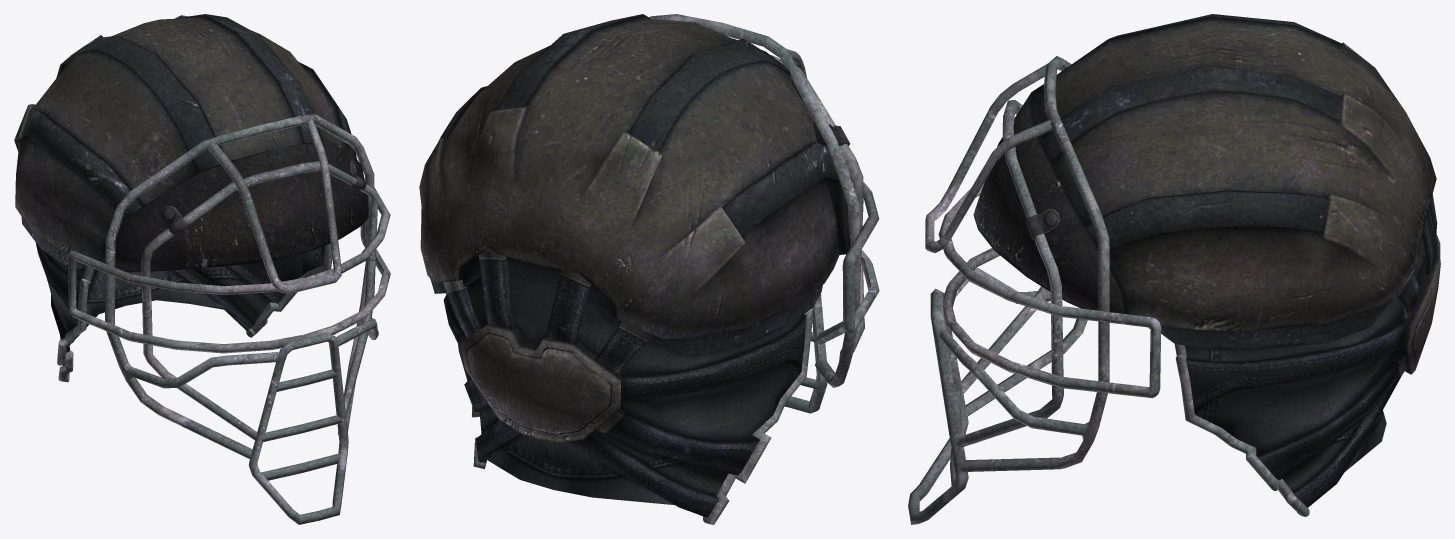
The model's file is helmet mask.FBX.
3 renders of one model, left to right at view 1: azimuth 30°, elevation 25°; view 2: azimuth 150°, elevation 25°; view 3: azimuth 270°, elevation 25°, orthographic. The views are drawn at different scales.
Parts seen in each view (by area): view 1: helmet, metal; view 2: helmet, metal; view 3: helmet, metal.
Part boxes in pixels (x1=…): helmet: x1=14, y1=14, x2=368, y2=382; metal: x1=68, y1=114, x2=390, y2=524; helmet: x1=419, y1=14, x2=850, y2=524; metal: x1=649, y1=14, x2=879, y2=413; helmet: x1=973, y1=14, x2=1440, y2=516; metal: x1=908, y1=56, x2=1161, y2=524.
Size of the model in its own units: 0.5035 by 0.62 by 0.6304.
